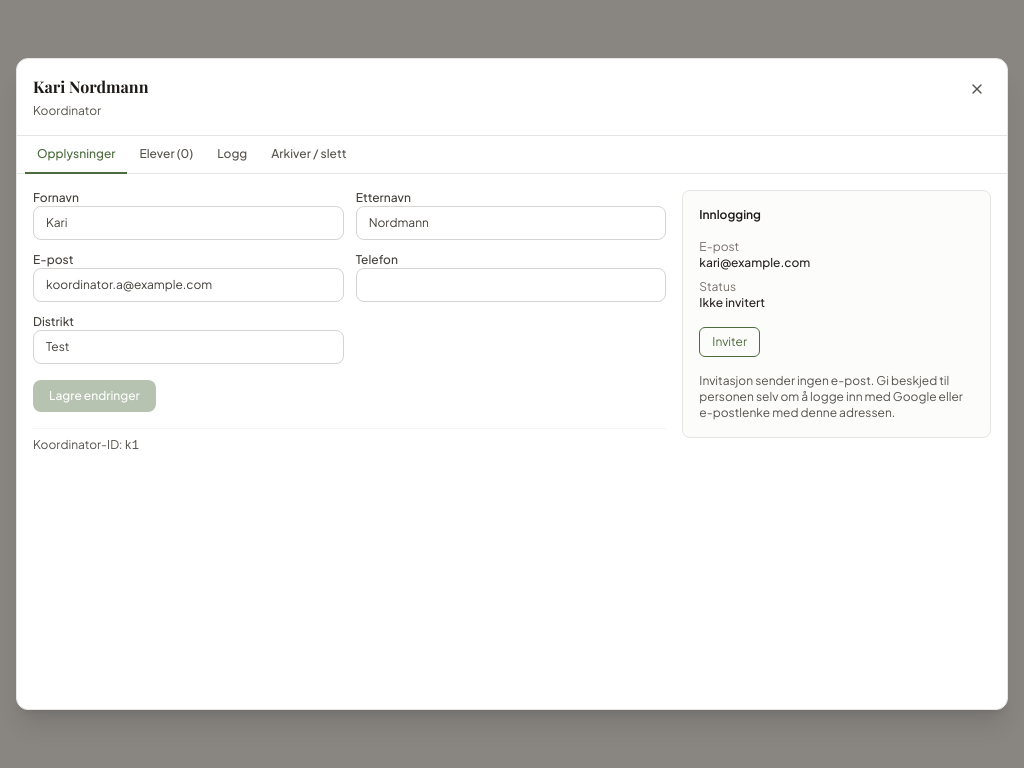
Koordinatorkort: fanen Elever › viser Ingen aktive elever når koordinatoren ikke har barn
What coordinates should you click on to do the following:
click the tab "Elever (0)"
I would click on:
 (166, 155)
Its box is [128, 136, 205, 174].
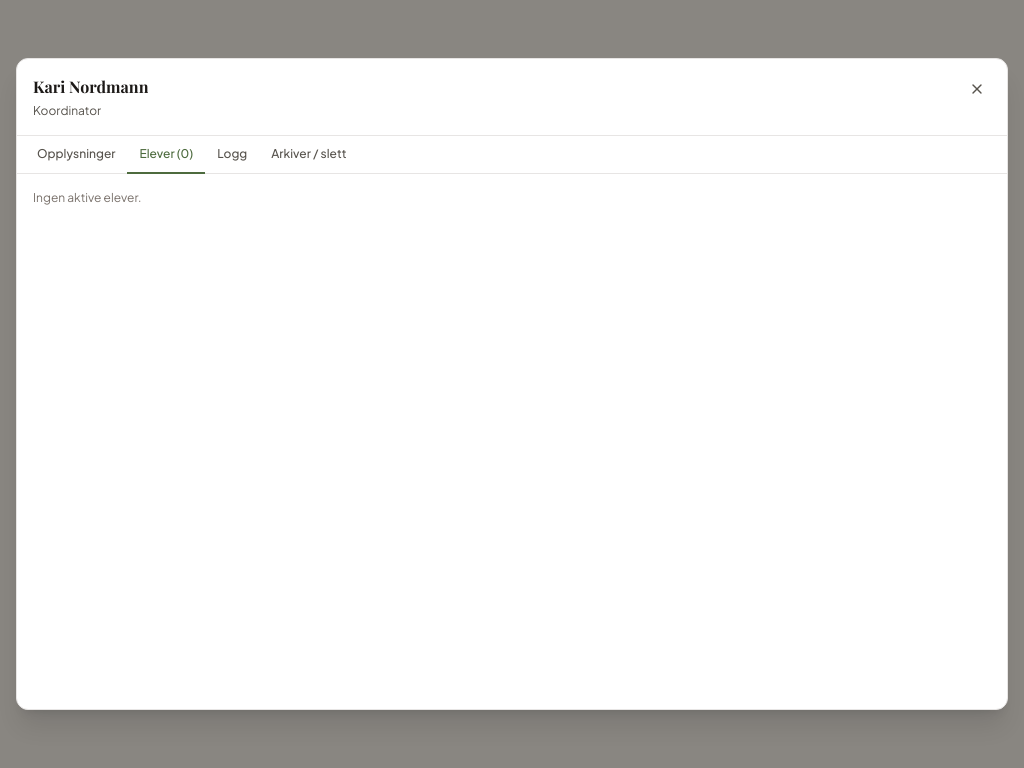
Expected: the text "Ingen aktive elever." is shown, [33, 190, 141, 205]
